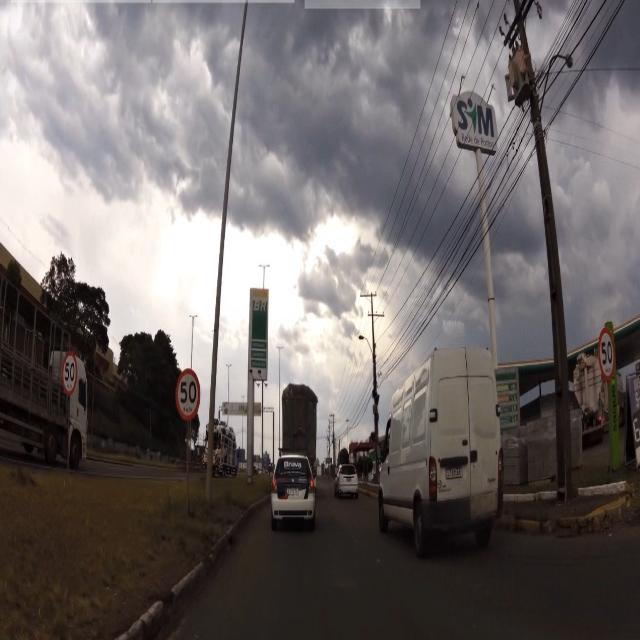R-19: (175, 366, 202, 420), (596, 326, 620, 379), (61, 351, 78, 392)
